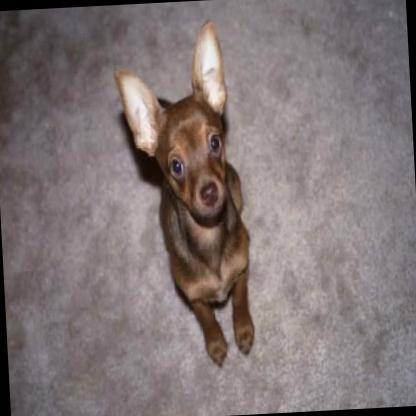miniature_pinscher: (109, 13, 256, 372)
